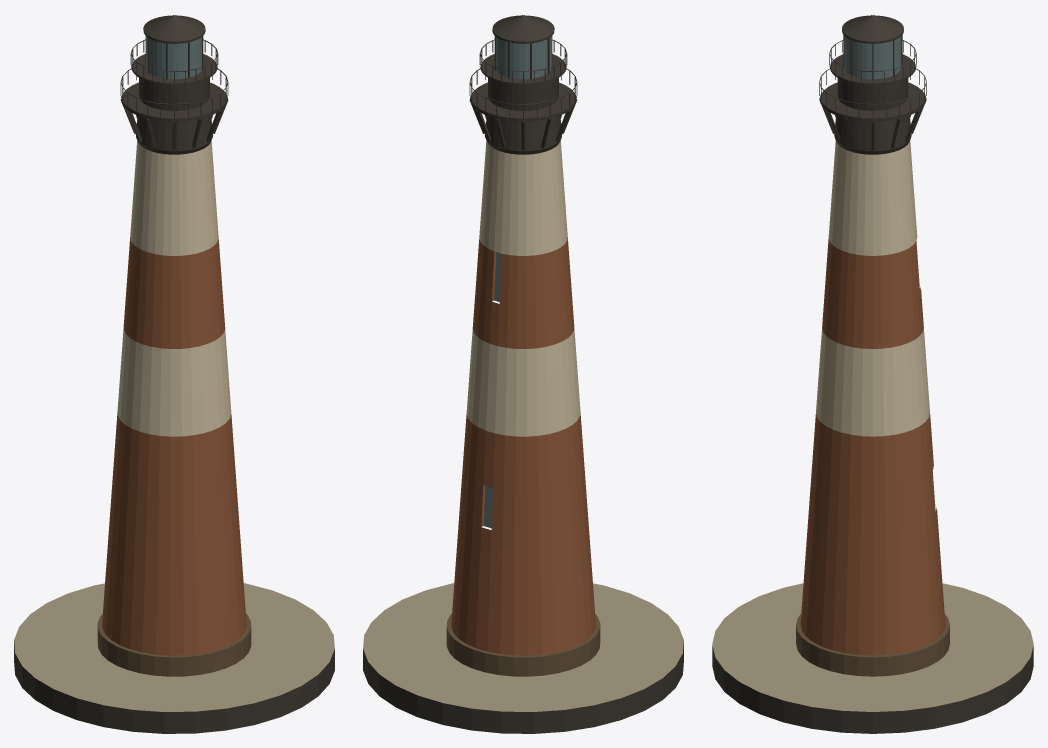
File: morris-island-lighthouse-far.glb
The picture shows the model from 3 angles, left to right: view 1: azimuth 30°, elevation 25°; view 2: azimuth 150°, elevation 25°; view 3: azimuth 270°, elevation 25°; orthographic projection.
Visible parts, largest first — view 1: morris-island-lighthouse-0-brick, morris-island-lighthouse-0-stone, morris-island-lighthouse-0-white, morris-island-lighthouse-0-iron, morris-island-lighthouse-0-base, morris-island-lighthouse-0-glass; view 2: morris-island-lighthouse-0-brick, morris-island-lighthouse-0-stone, morris-island-lighthouse-0-white, morris-island-lighthouse-0-iron, morris-island-lighthouse-0-base, morris-island-lighthouse-0-glass; view 3: morris-island-lighthouse-0-brick, morris-island-lighthouse-0-stone, morris-island-lighthouse-0-white, morris-island-lighthouse-0-iron, morris-island-lighthouse-0-base, morris-island-lighthouse-0-glass.
Part boxes in pixels (x1=…): morris-island-lighthouse-0-brick: x1=102, y1=237, x2=246, y2=655; morris-island-lighthouse-0-stone: x1=14, y1=583, x2=334, y2=711; morris-island-lighthouse-0-white: x1=117, y1=141, x2=231, y2=436; morris-island-lighthouse-0-iron: x1=14, y1=15, x2=334, y2=733; morris-island-lighthouse-0-base: x1=97, y1=15, x2=251, y2=676; morris-island-lighthouse-0-glass: x1=146, y1=36, x2=201, y2=79; morris-island-lighthouse-0-brick: x1=451, y1=237, x2=595, y2=655; morris-island-lighthouse-0-stone: x1=363, y1=583, x2=683, y2=711; morris-island-lighthouse-0-white: x1=466, y1=141, x2=580, y2=436; morris-island-lighthouse-0-iron: x1=363, y1=15, x2=683, y2=733; morris-island-lighthouse-0-base: x1=446, y1=15, x2=600, y2=676; morris-island-lighthouse-0-glass: x1=483, y1=36, x2=551, y2=528; morris-island-lighthouse-0-brick: x1=800, y1=238, x2=945, y2=655; morris-island-lighthouse-0-stone: x1=712, y1=583, x2=1033, y2=711; morris-island-lighthouse-0-white: x1=816, y1=140, x2=929, y2=436; morris-island-lighthouse-0-iron: x1=712, y1=15, x2=1033, y2=733; morris-island-lighthouse-0-base: x1=796, y1=15, x2=949, y2=676; morris-island-lighthouse-0-glass: x1=844, y1=36, x2=901, y2=79.
Size of the model in its own units: 21.95 by 49.07 by 21.95.
